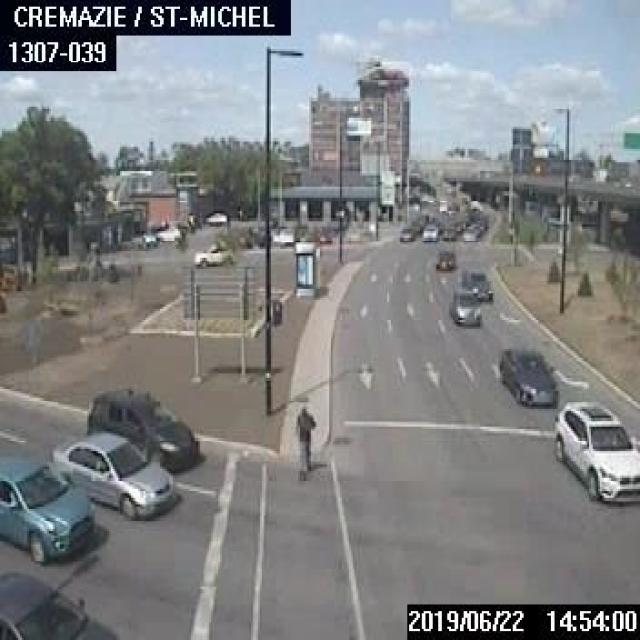pedestrian: (292, 404, 314, 478)
vehicle: (51, 429, 173, 517), (0, 458, 93, 562), (85, 388, 197, 472), (551, 398, 638, 504), (0, 566, 115, 638), (500, 346, 557, 406), (448, 286, 480, 327), (460, 264, 492, 300), (193, 242, 231, 266), (432, 247, 454, 269), (154, 223, 180, 240), (396, 223, 415, 242), (420, 222, 437, 240), (204, 210, 227, 223), (461, 226, 477, 241), (441, 226, 454, 240)
